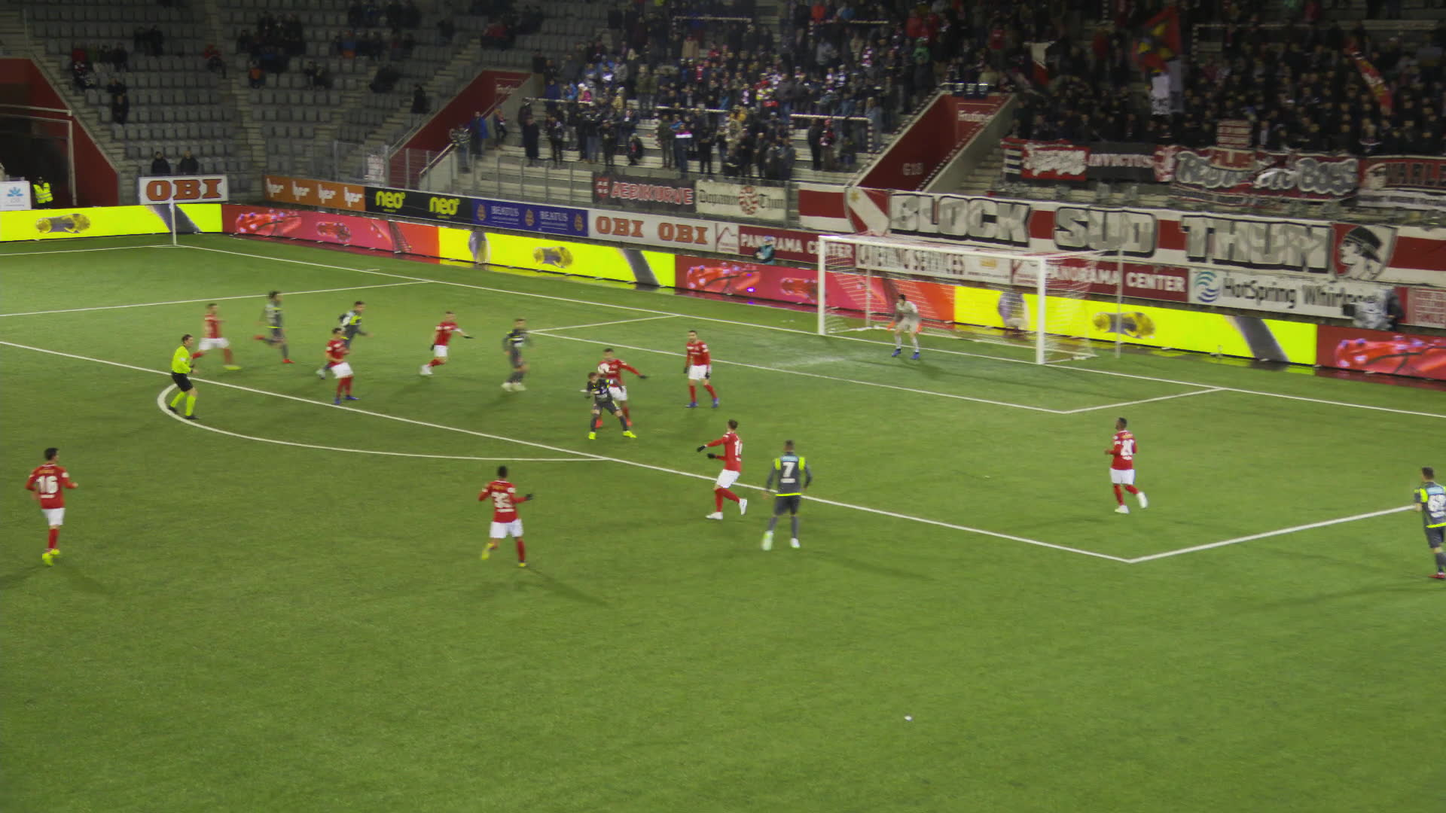ball: (599, 363, 610, 374)
player: (464, 456, 541, 576), (24, 447, 78, 568), (761, 439, 812, 551), (694, 419, 748, 518), (589, 346, 640, 428), (316, 300, 371, 376), (1104, 416, 1146, 513), (1412, 463, 1445, 583), (188, 302, 243, 372), (584, 370, 639, 440), (239, 290, 291, 364), (419, 310, 475, 376), (681, 330, 719, 410), (501, 315, 535, 391), (325, 327, 358, 405), (886, 293, 924, 359)
referee: (166, 332, 200, 420)
